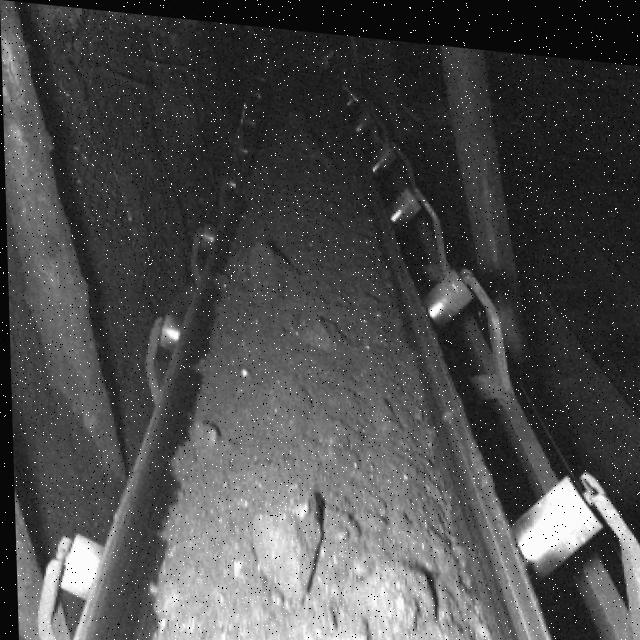large_sized_coal: (249, 478, 324, 596), (347, 548, 432, 627), (242, 236, 292, 296), (297, 311, 342, 344)
